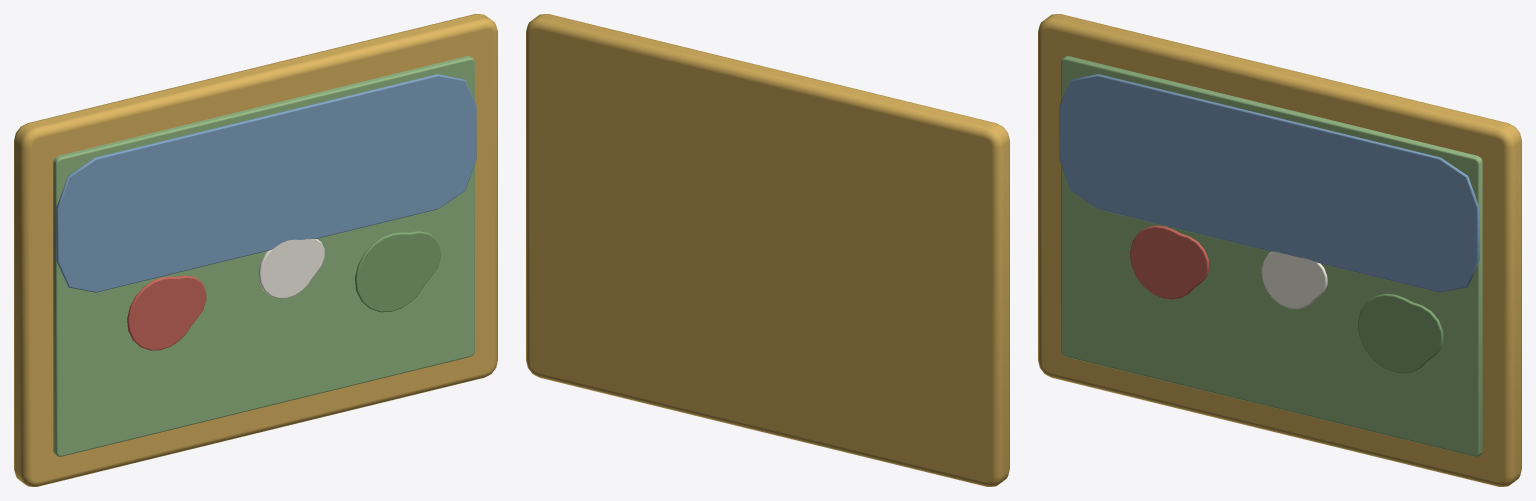
Rendered from framed_painting_park.glb.
3 renders of one model, left to right at view 1: azimuth 30°, elevation 25°; view 2: azimuth 150°, elevation 25°; view 3: azimuth 330°, elevation 25°, orthographic.
Visible parts, largest first — view 1: framed_painting_park_mesh; view 2: framed_painting_park_mesh; view 3: framed_painting_park_mesh.
Part boxes in pixels (x1=…): framed_painting_park_mesh: x1=14, y1=14, x2=497, y2=486; framed_painting_park_mesh: x1=526, y1=14, x2=1009, y2=486; framed_painting_park_mesh: x1=1038, y1=14, x2=1521, y2=486.
Bounding box in the file's own units: 1 × 0.72 × 0.067.
